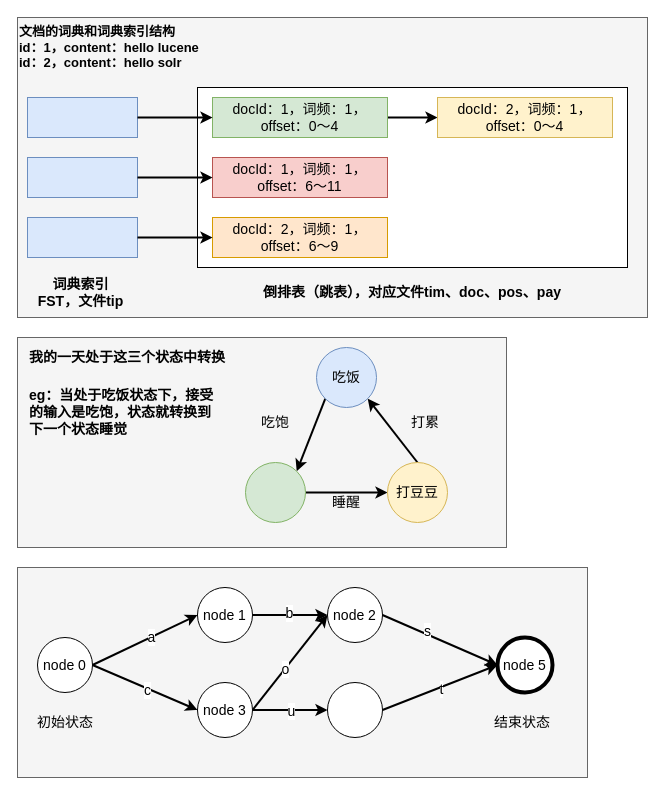
Image size: 665x795. Some labels were removed from this diagram. Here are the shapes that lost their labels. From the top down, the centre of each, then its label:
the point at 82,117: hello
the point at 82,177: lucene
the point at 82,237: solr
the point at 275,492: 睡觉
the point at 354,710: node 4
